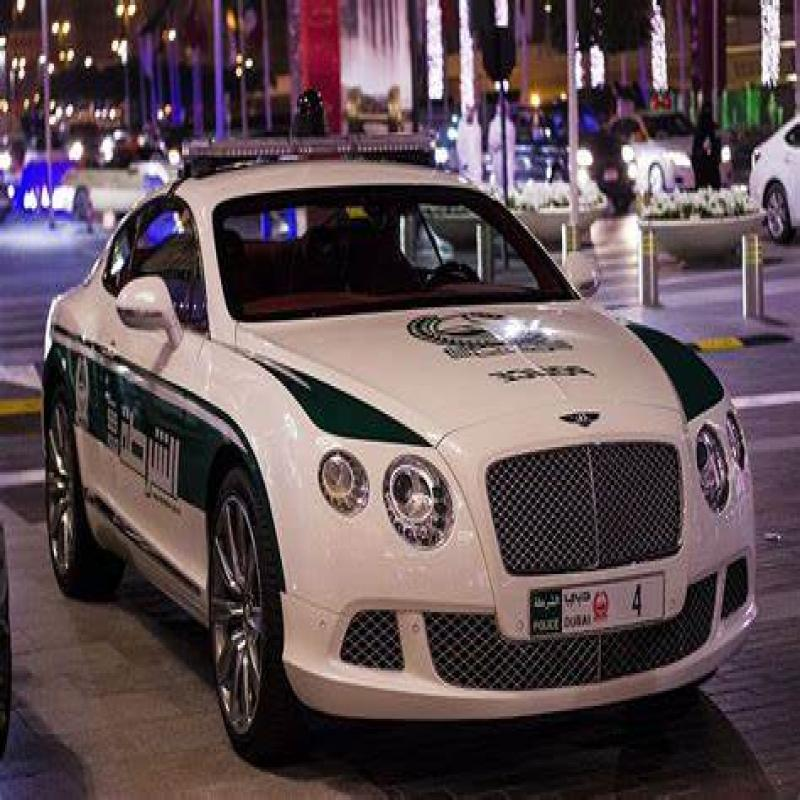AmbulanceSiren: (181, 102, 437, 178)
